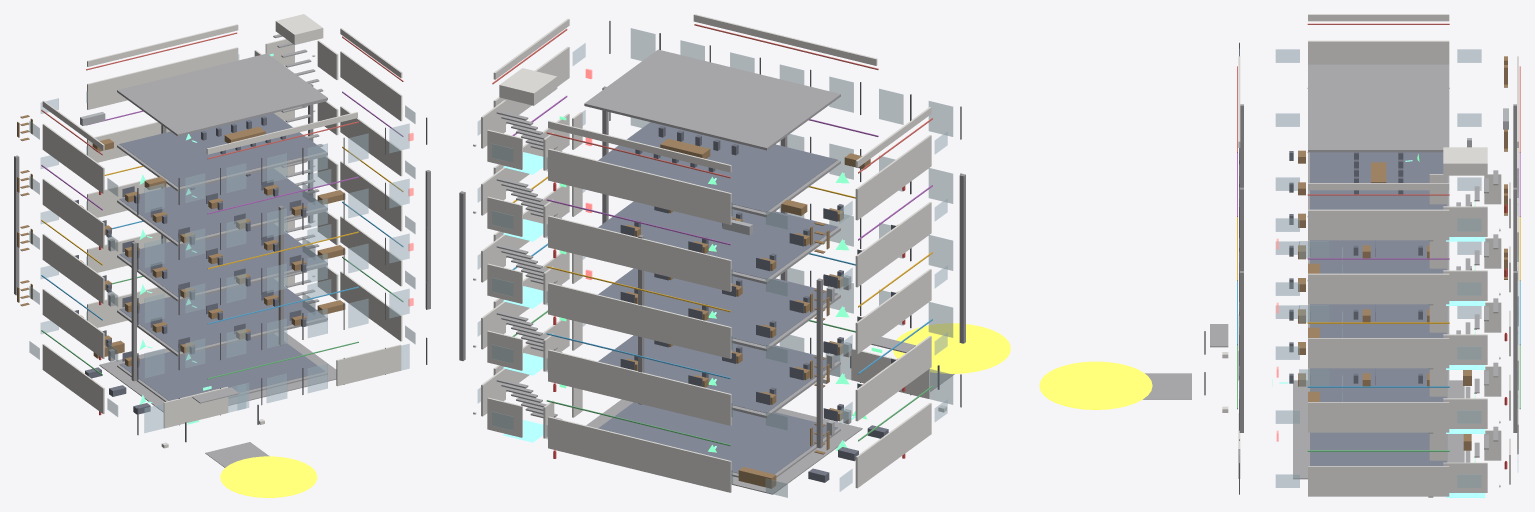
Rendered from OfficeBuilding_Assembled.glb.
3 renders of one model, left to right at view 1: azimuth 30°, elevation 25°; view 2: azimuth 150°, elevation 25°; view 3: azimuth 270°, elevation 25°, orthographic. The views are drawn at different scales.
Visible parts, largest first — view 1: Struct_Slabs, Walls_F1, Walls_F5, Walls_F2, Walls_F3, Walls_F4, Design_F5, Design_F4, Design_F3, Design_F2, Design_Roof, Struct_Columns (+11 smaller); view 2: Struct_Slabs, Walls_F1, Walls_F5, Walls_F3, Walls_F2, Walls_F4, Design_Windows, Design_Roof, Design_F5, Struct_Columns, EVAC_AssemblyPoint, Design_F4 (+9 smaller); view 3: Struct_Slabs, Walls_F5, Walls_F1, Walls_F4, Walls_F3, Walls_F2, Design_Windows, EVAC_AssemblyPoint, Design_Roof, Struct_Columns, DSN_GroundPlinth, Furn_F4 (+10 smaller).
Boxes of the visible parts, <box> form: Struct_Slabs: <box>117,53,327,401</box>; Walls_F1: <box>42,266,402,428</box>; Walls_F5: <box>42,34,402,193</box>; Walls_F2: <box>42,211,402,358</box>; Walls_F3: <box>42,156,402,303</box>; Walls_F4: <box>42,101,402,248</box>; Design_F5: <box>41,32,427,214</box>; Design_F4: <box>41,91,427,269</box>; Design_F3: <box>41,146,427,325</box>; Design_F2: <box>41,201,427,380</box>; Design_Roof: <box>42,14,402,154</box>; Struct_Columns: <box>14,84,430,381</box>; Struct_Slabs: <box>584,49,840,477</box>; Walls_F1: <box>481,319,931,492</box>; Walls_F5: <box>481,46,931,224</box>; Walls_F3: <box>481,185,931,358</box>; Walls_F2: <box>481,252,931,425</box>; Walls_F4: <box>481,113,931,291</box>; Design_Windows: <box>477,43,947,497</box>; Design_Roof: <box>493,14,931,172</box>; Design_F5: <box>492,21,961,178</box>; Struct_Columns: <box>459,86,965,448</box>; EVAC_AssemblyPoint: <box>893,323,1010,373</box>; Design_F4: <box>512,95,961,245</box>; Struct_Slabs: <box>1308,64,1449,465</box>; Walls_F5: <box>1308,40,1518,241</box>; Walls_F1: <box>1238,314,1518,497</box>; Walls_F4: <box>1308,198,1518,305</box>; Walls_F3: <box>1308,262,1518,369</box>; Walls_F2: <box>1308,326,1518,433</box>; Design_Windows: <box>1275,49,1518,487</box>; EVAC_AssemblyPoint: <box>1039,361,1152,409</box>; Design_Roof: <box>1238,14,1518,190</box>; Struct_Columns: <box>1239,104,1517,432</box>; DSN_GroundPlinth: <box>1293,380,1464,479</box>; Furn_F4: <box>1289,150,1429,273</box>.
Size of the model in its own units: 2005 by 1855 by 2382.
